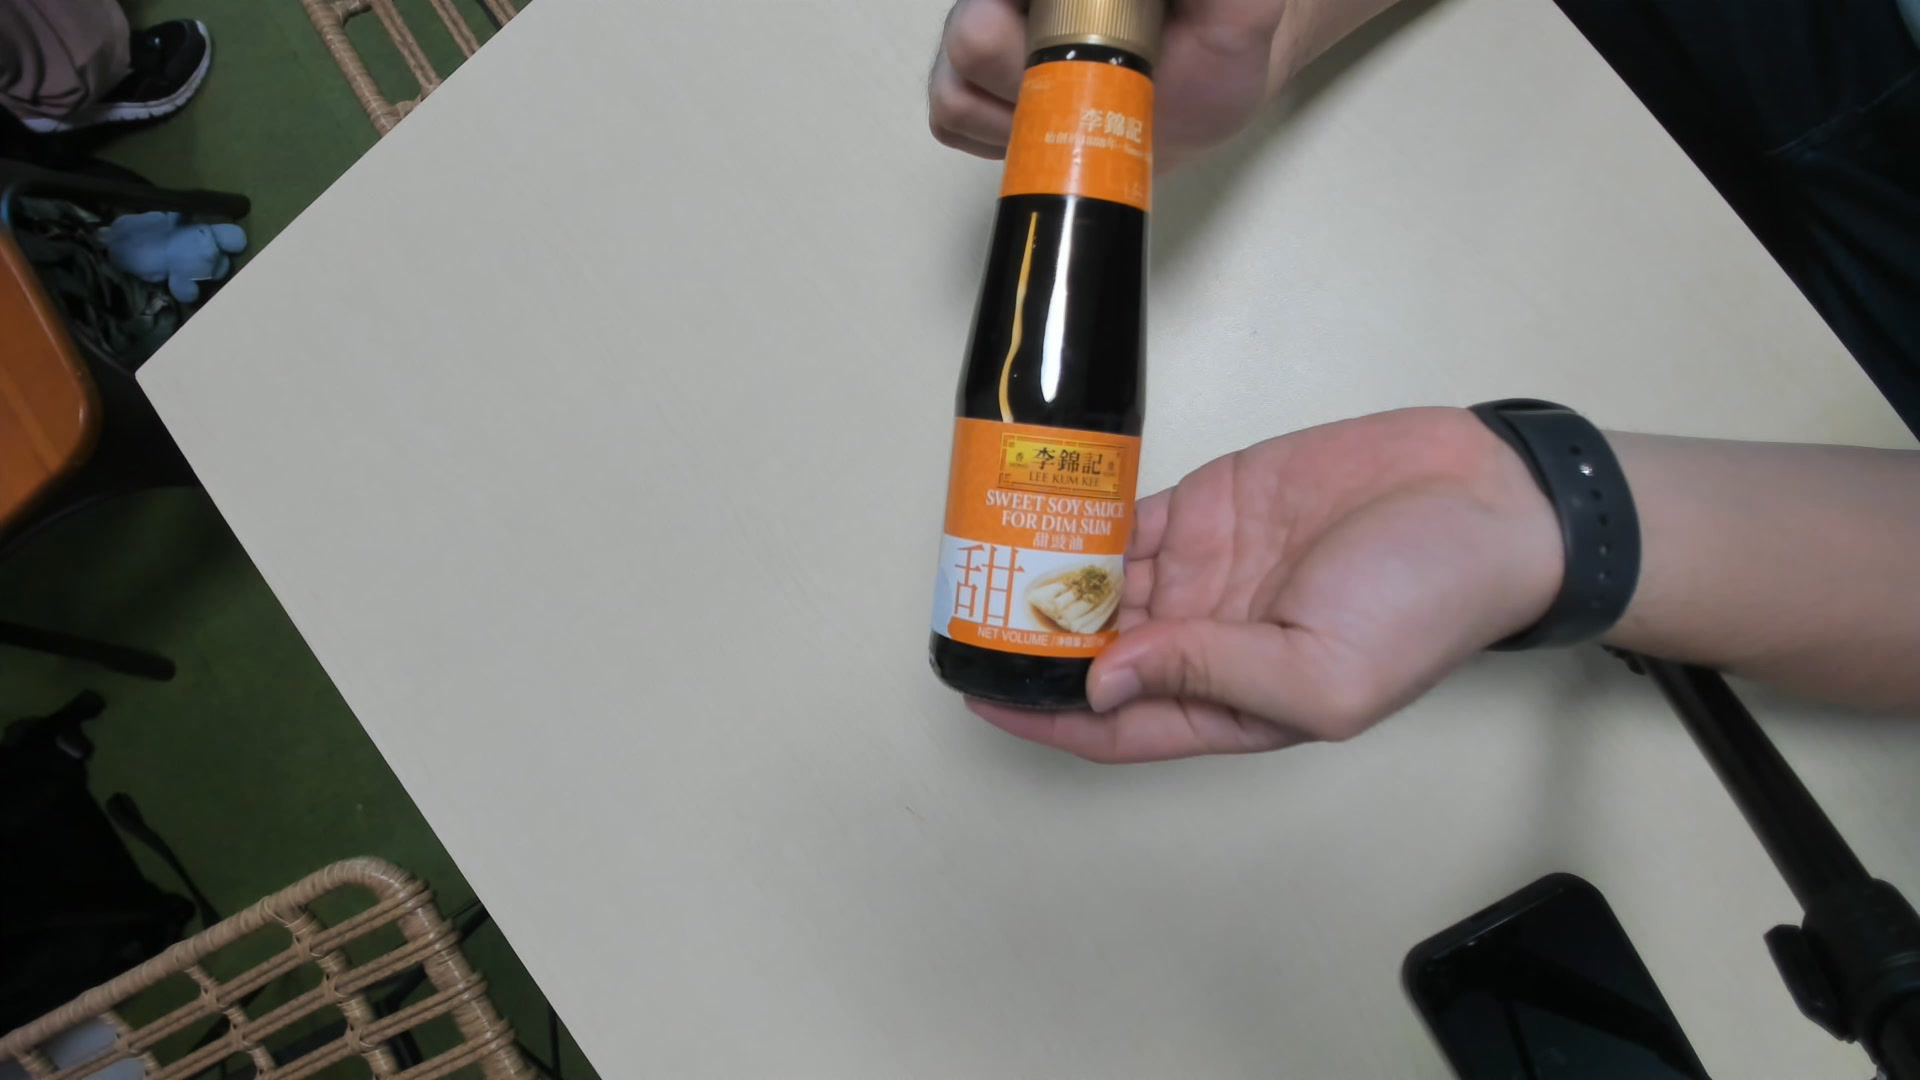OtherSauceDressing_200-299g_NonHalal_NonHealthy: (928, 11, 1163, 713)
